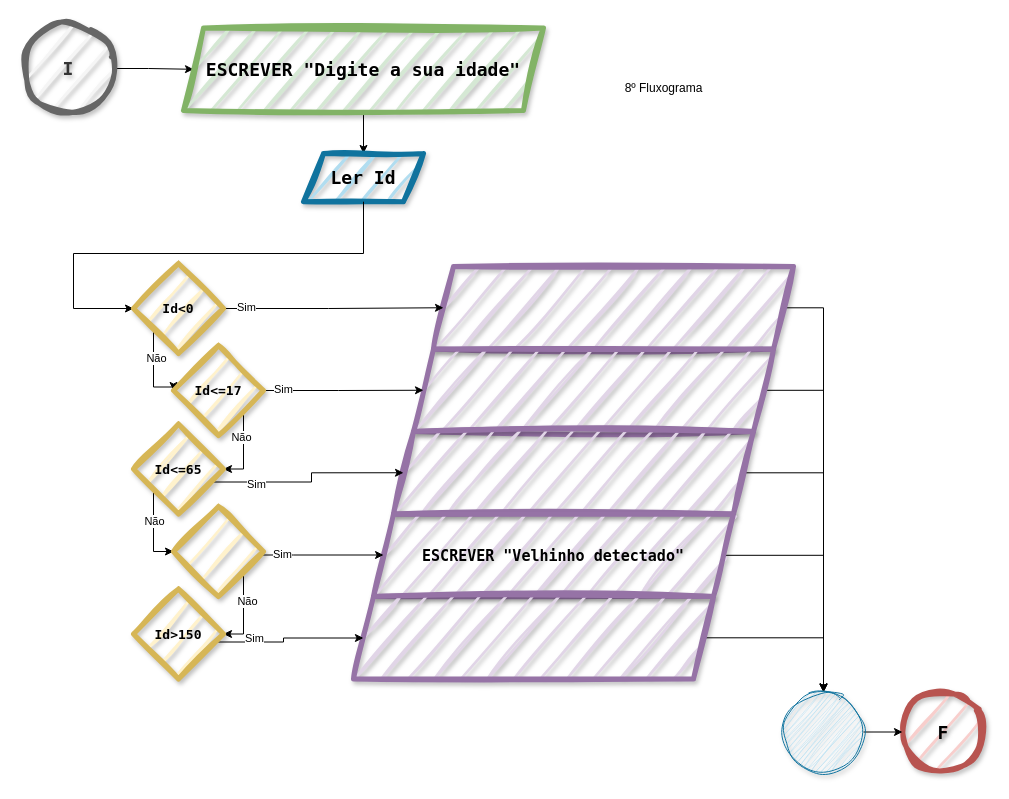
Image size: 1009x799. Some labels were removed from this diagram. The shapes that lost their labels are listed below. From the top down, each one's centre as x and y in pixels, then its label:
[614,309]: ESCREVER "Meteste água. Aguarda processo de secagem."
[594,391]: ESCREVER "Puto detectado"
[574,473]: ESCREVER "Adulto detectado"
[219,553]: Id<=149
[534,639]: ESCREVER "Dinossauro detectado"
